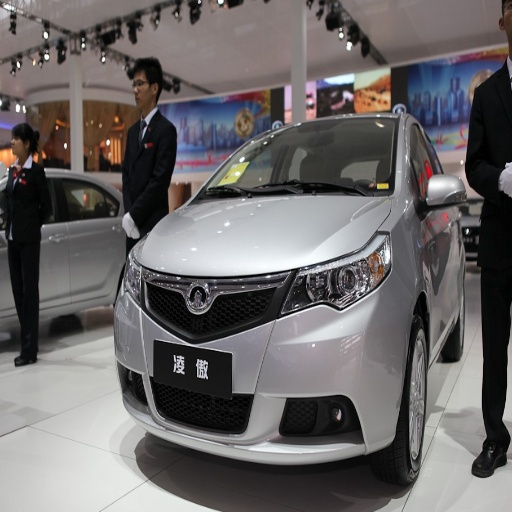front_bumper: (117, 266, 410, 465)
front_glass: (191, 120, 398, 203)
front_left_door: (407, 132, 438, 209), (438, 253, 463, 332)
